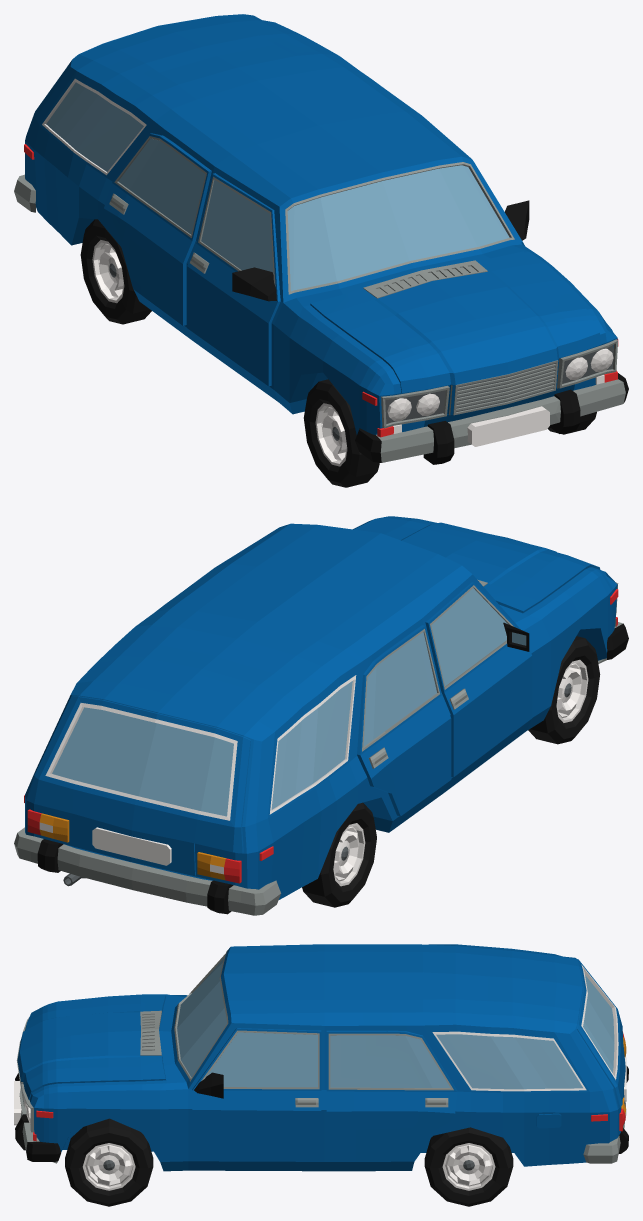
Rendered from car_1_blue.fbx.
3 renders of one model, top to bottom at view 1: azimuth 30°, elevation 25°; view 2: azimuth 150°, elevation 25°; view 3: azimuth 270°, elevation 25°, orthographic. The views are drawn at different scales.
Visible parts, largest first — view 1: Rear_Left_Wheel.005; view 2: Rear_Left_Wheel.005; view 3: Rear_Left_Wheel.005.
Part boxes in pixels (left/top/right/bottom): Rear_Left_Wheel.005: left=14, top=14, right=628, bottom=487; Rear_Left_Wheel.005: left=14, top=516, right=628, bottom=915; Rear_Left_Wheel.005: left=14, top=944, right=628, bottom=1206.
Size of the model in its own units: 196 by 146 by 436.
Materials: 1 (1 with a texture image).
